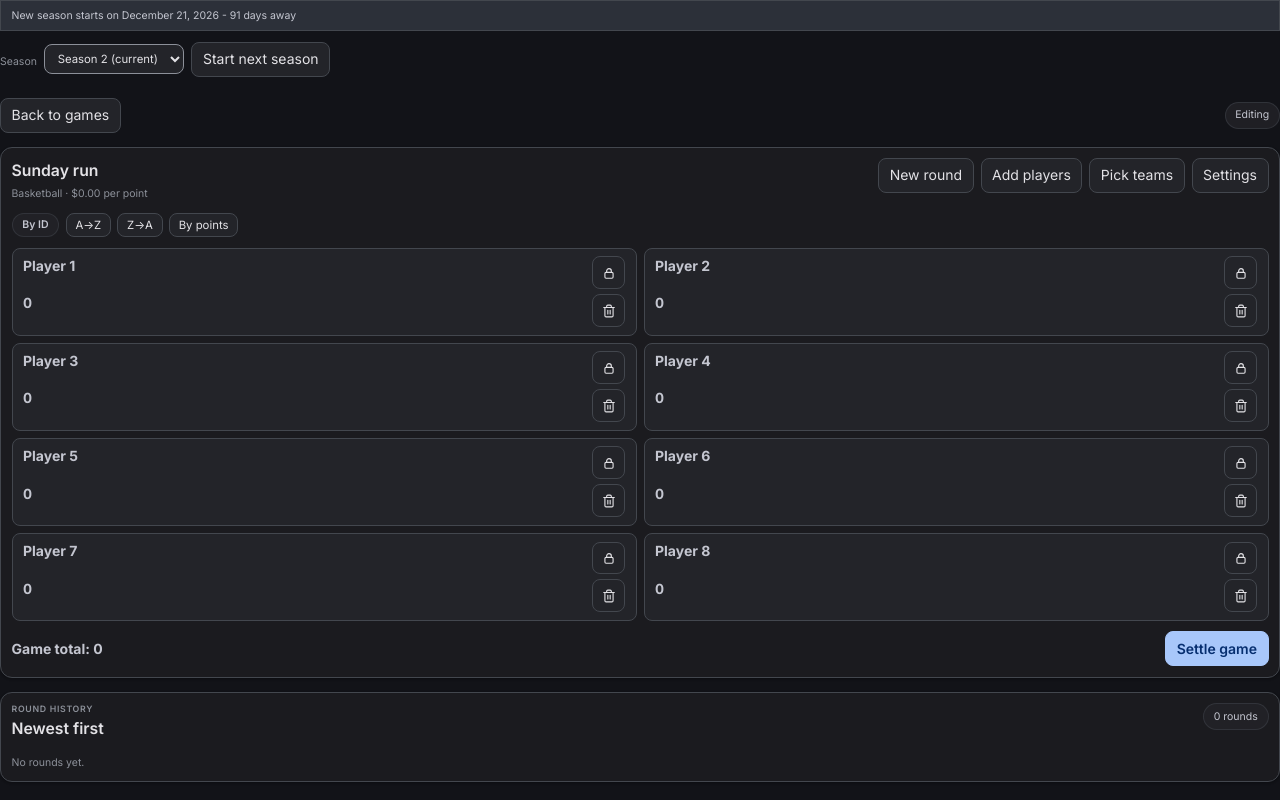
GameViewPage — pick teams › opens a dialog offering 2–6 teams, defaulted to 2
Click the button "Pick teams": (1137, 175) [1089,158,1184,193]
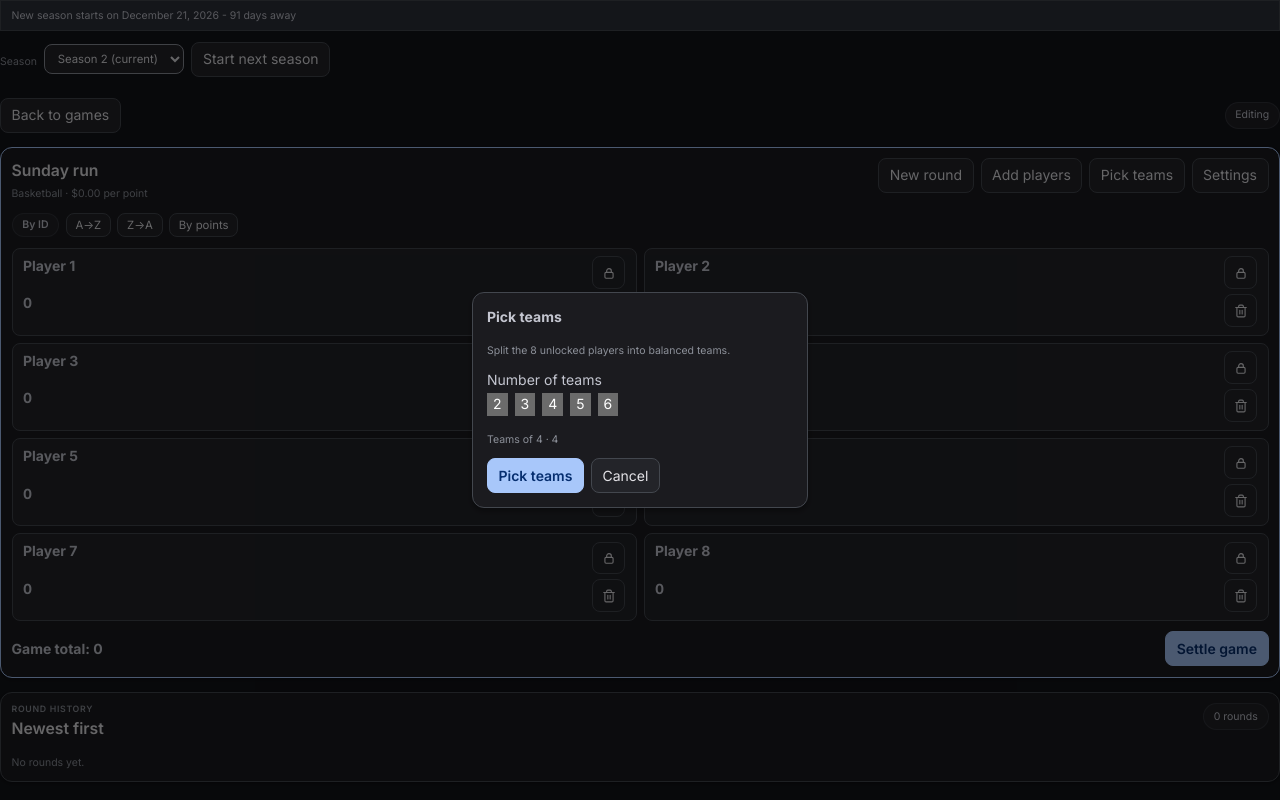
Check: the buttons read "2", "3", "4", "5", "6", in this order, box [487,394,508,416]; [514,394,535,416]; [542,394,563,416]; [570,394,591,416]; [598,394,618,416]
